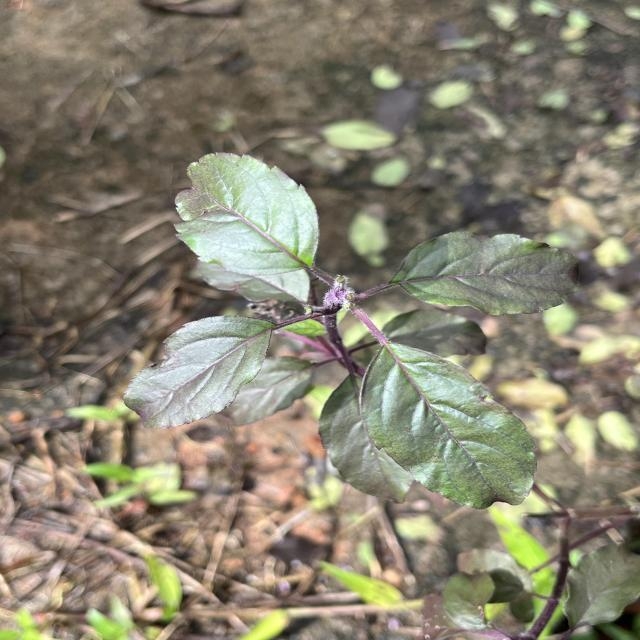Ocimum tenuiflorum: (356, 342, 540, 511), (172, 151, 321, 277), (121, 314, 277, 431), (388, 230, 582, 319)
